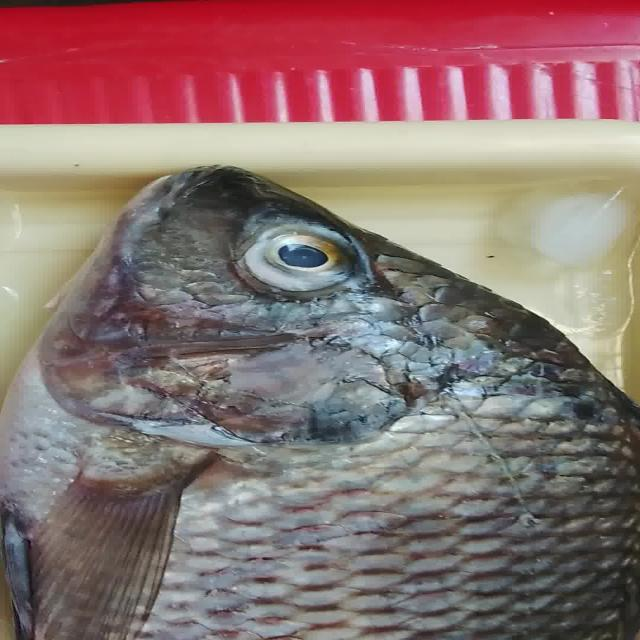Fresh: (24, 346, 551, 622), (225, 222, 378, 298)
